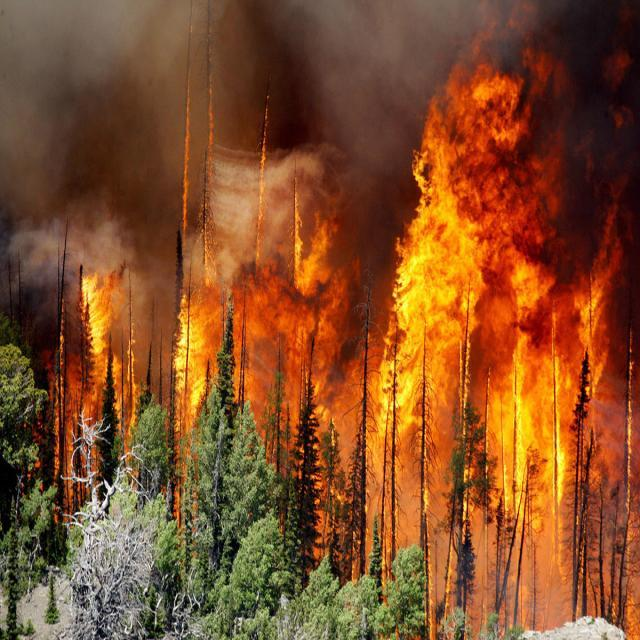Fire: (359, 66, 624, 537), (177, 274, 339, 419), (73, 276, 113, 416)
Smoke: (2, 0, 393, 256)
